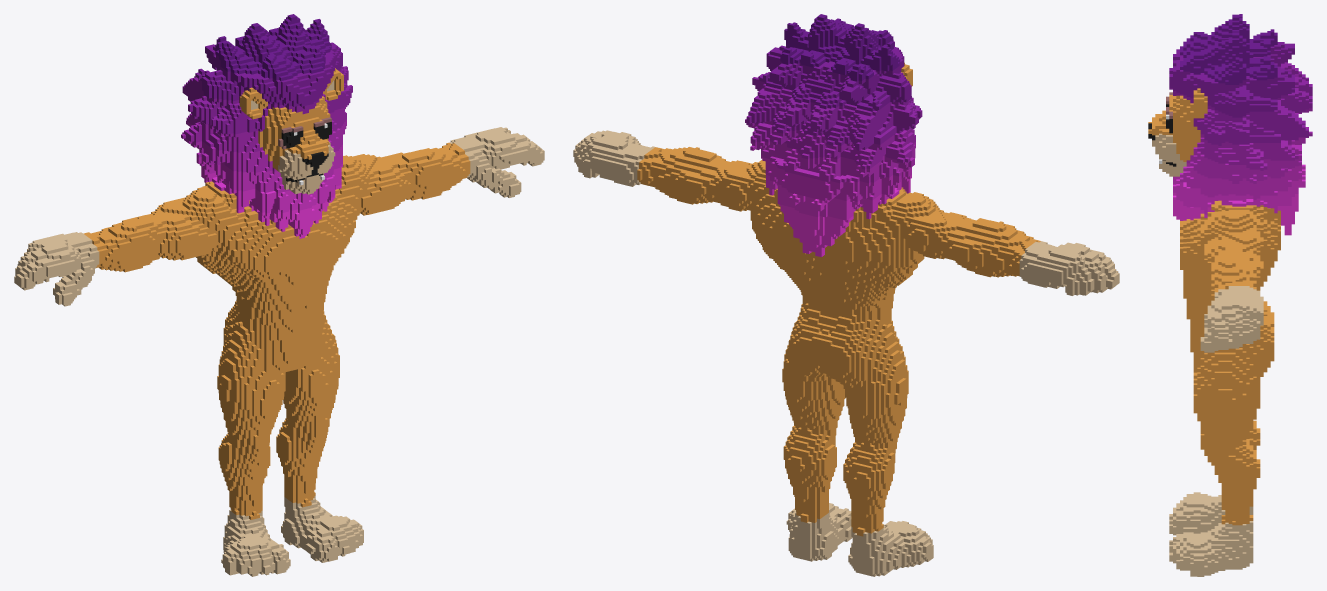
The model's file is 326-BqQVgaqP.glb.
3 renders of one model, left to right at view 1: azimuth 30°, elevation 25°; view 2: azimuth 150°, elevation 25°; view 3: azimuth 270°, elevation 25°, orthographic. The views are drawn at different scales.
Visible parts, largest first — view 1: standard; view 2: standard; view 3: standard.
Boxes of the visible parts, bbox=[...] form: standard: bbox=[14, 14, 544, 576]; standard: bbox=[573, 14, 1119, 576]; standard: bbox=[1148, 14, 1312, 576].
Size of the model in its own units: 17.2 by 16.5 by 4.7.
Materials: 4 (4 with a texture image).
